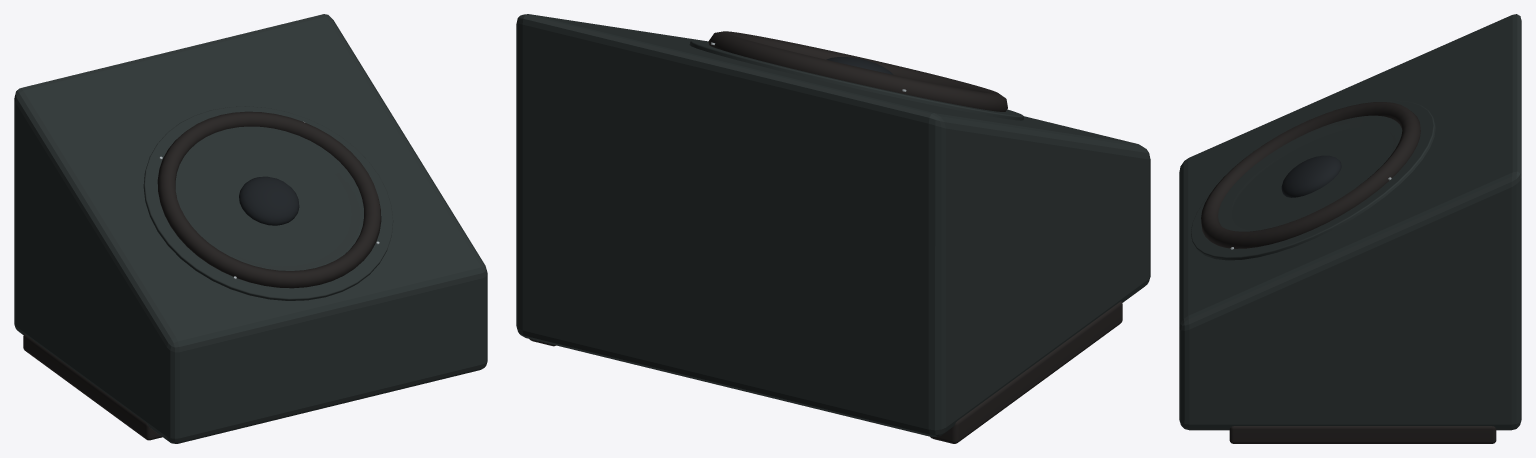
The model's file is stage_monitor.glb.
The picture shows the model from 3 angles, left to right: view 1: azimuth 30°, elevation 25°; view 2: azimuth 150°, elevation 25°; view 3: azimuth 270°, elevation 25°; orthographic projection. The views are drawn at different scales.
Parts seen in each view (by area): view 1: Sloping wedge cabinet, Speaker flexible surround, Speaker central dome; view 2: Sloping wedge cabinet, Speaker flexible surround; view 3: Sloping wedge cabinet, Speaker flexible surround, Speaker central dome.
Boxes of the visible parts, box(x1,y1,x2,y2) form: Sloping wedge cabinet: box(14, 14, 487, 443); Speaker flexible surround: box(23, 111, 381, 440); Speaker central dome: box(239, 176, 299, 225); Sloping wedge cabinet: box(516, 14, 1150, 436); Speaker flexible surround: box(529, 31, 1122, 443); Sloping wedge cabinet: box(1179, 14, 1521, 430); Speaker flexible surround: box(1201, 102, 1496, 443); Speaker central dome: box(1281, 155, 1341, 197).
Bounding box in the file's own units: 0.472 × 0.3561 × 0.41.
Materials: 4 (4 with a texture image).
